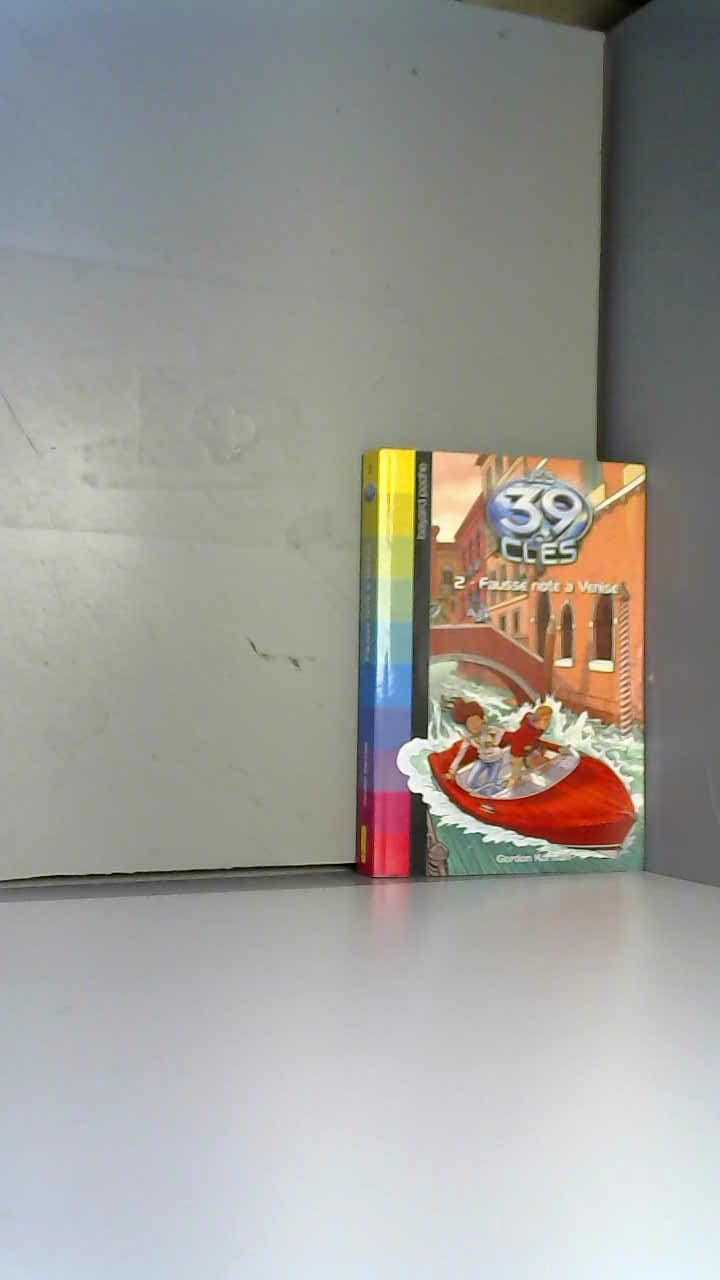book: (345, 434, 661, 897)
